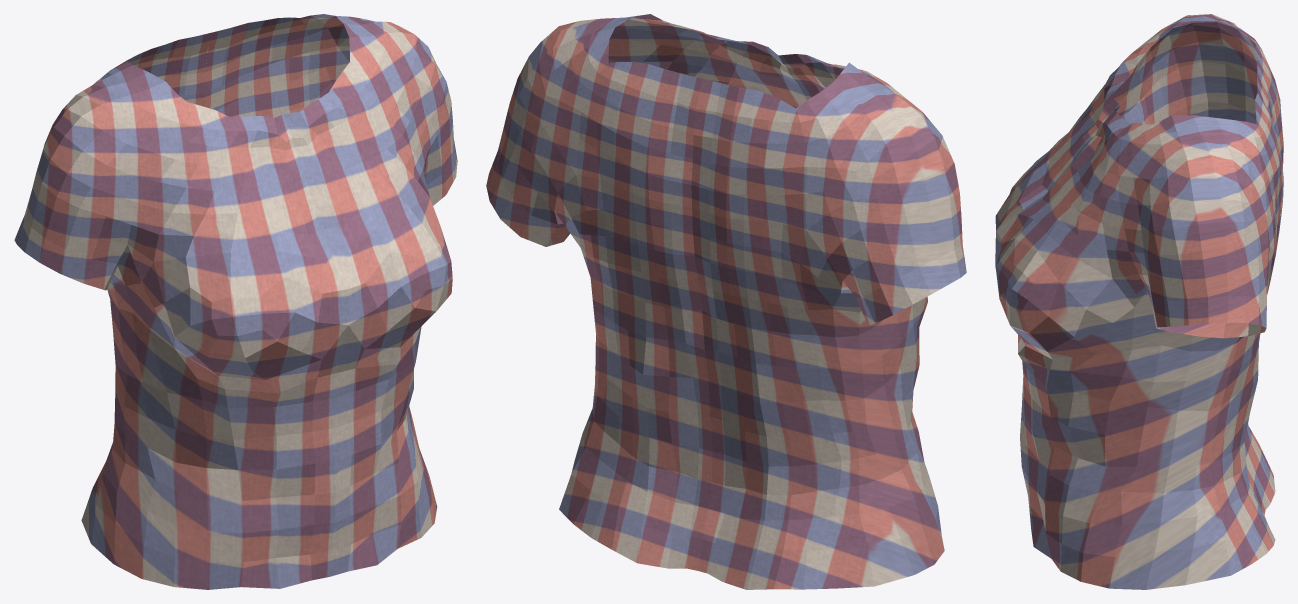
Rendered from girl_shirt.obj.
3 views of the same model, side by side, from view 1: azimuth 30°, elevation 25°; view 2: azimuth 150°, elevation 25°; view 3: azimuth 270°, elevation 25° (orthographic). The views are drawn at different scales.
Parts seen in each view (by area): view 1: shirt_Realistic_White_Female_Low_Poly.002; view 2: shirt_Realistic_White_Female_Low_Poly.002; view 3: shirt_Realistic_White_Female_Low_Poly.002.
Boxes of the visible parts, x1,y1,x2,y2 form: shirt_Realistic_White_Female_Low_Poly.002: (14, 14, 457, 589); shirt_Realistic_White_Female_Low_Poly.002: (486, 14, 966, 589); shirt_Realistic_White_Female_Low_Poly.002: (995, 14, 1283, 589).
Size of the model in its own units: 0.4918 by 0.5153 by 0.2962.
